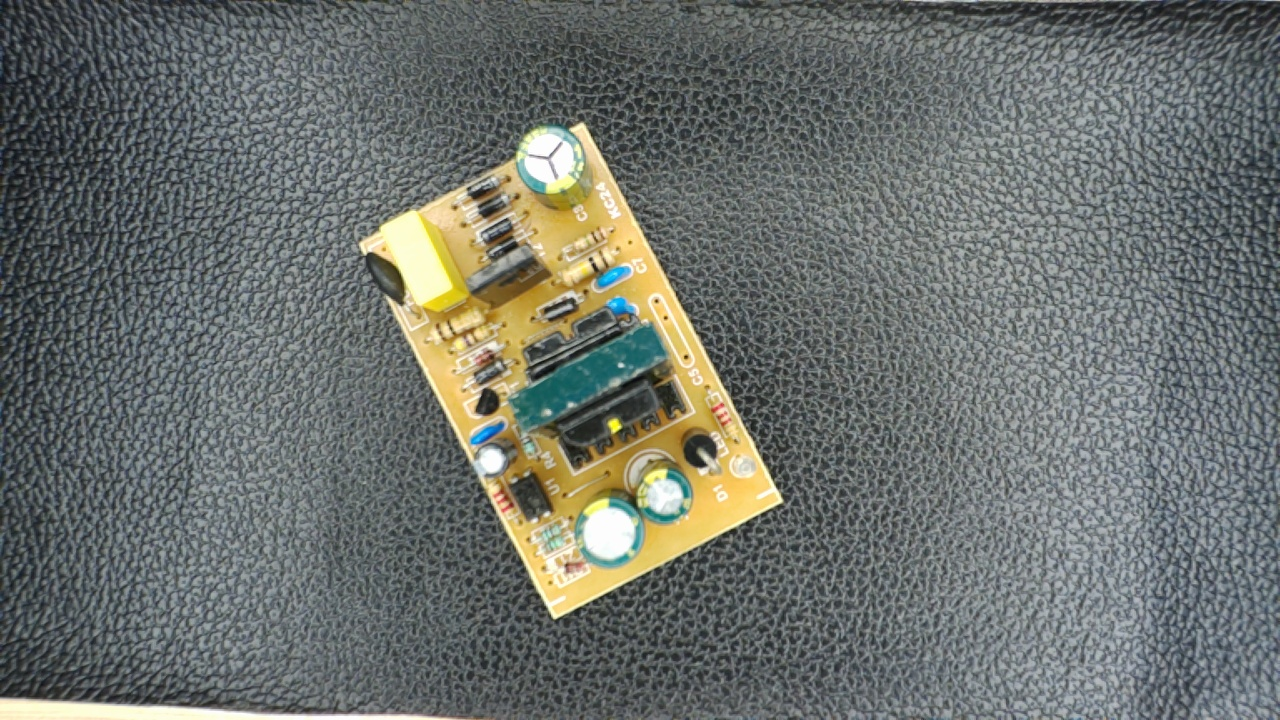fuse: (360, 242, 411, 315)
hv_capacitor: (512, 126, 597, 213)
optocoupler: (509, 470, 558, 527)
